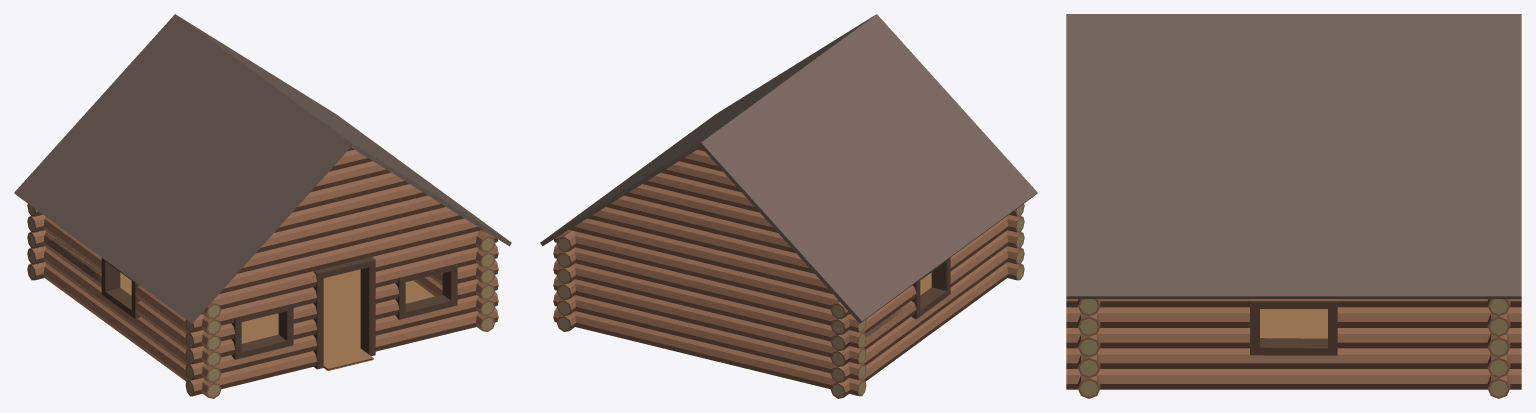
Rendered from brook_cabin.fbx.
3 renders of one model, left to right at view 1: azimuth 30°, elevation 25°; view 2: azimuth 150°, elevation 25°; view 3: azimuth 270°, elevation 25°, orthographic. The views are drawn at different scales.
Parts seen in each view (by area): view 1: log_cabin; view 2: log_cabin; view 3: log_cabin.
Boxes of the visible parts, left/top/right/bottom form: log_cabin: left=14, top=14, right=511, bottom=398; log_cabin: left=540, top=14, right=1037, bottom=398; log_cabin: left=1066, top=14, right=1521, bottom=398.
Size of the model in its own units: 21.17 by 13.99 by 20.
